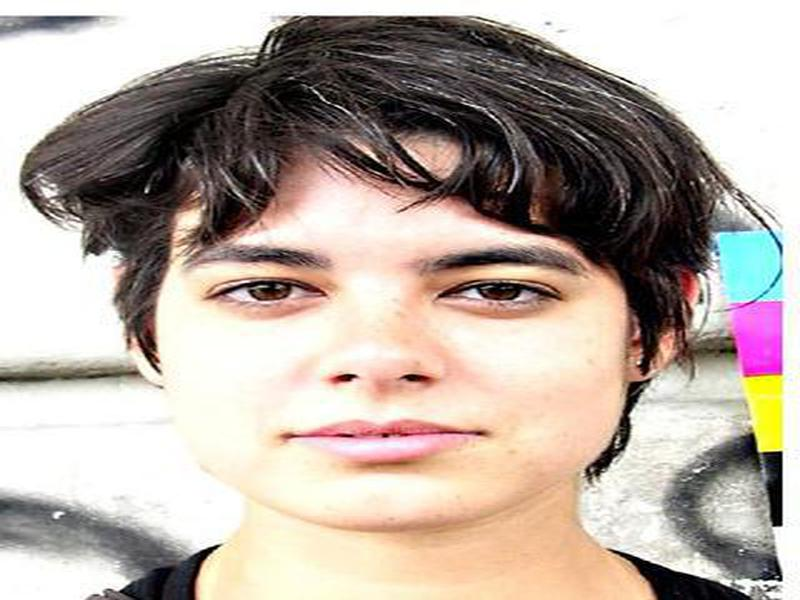without_mask: (149, 185, 623, 527)
